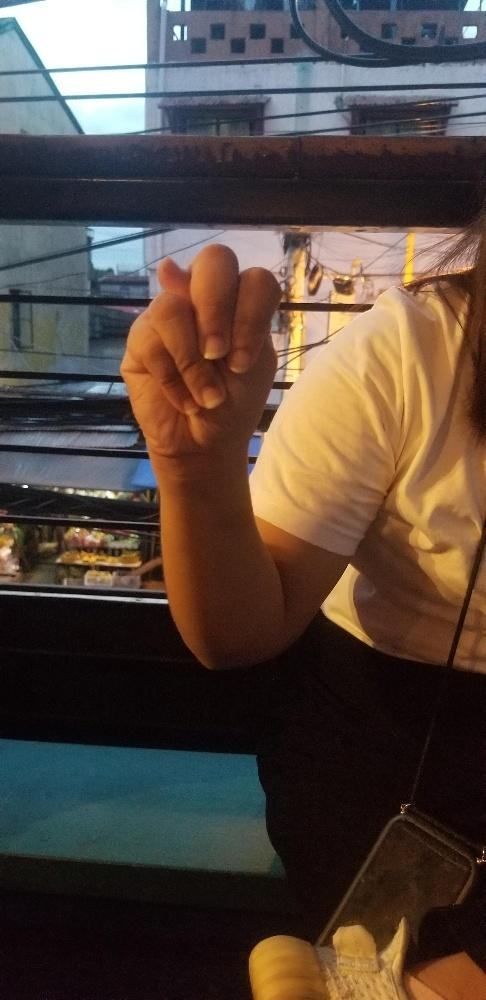n: (116, 243, 282, 462)
